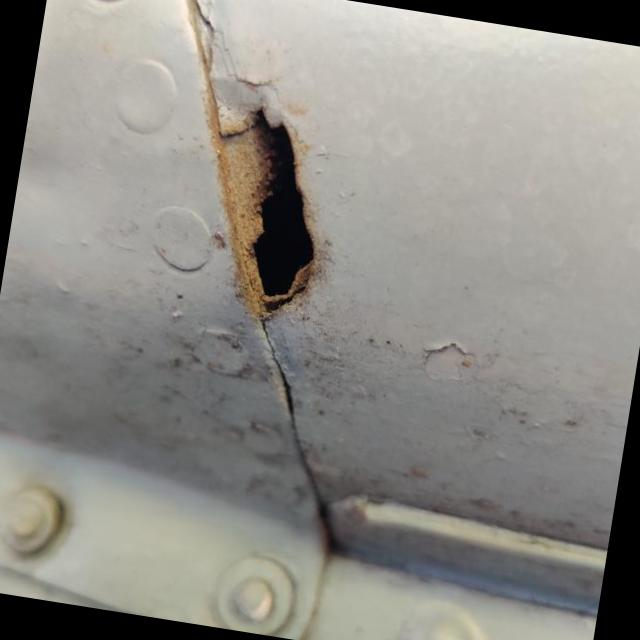Crack: (204, 70, 318, 327)
